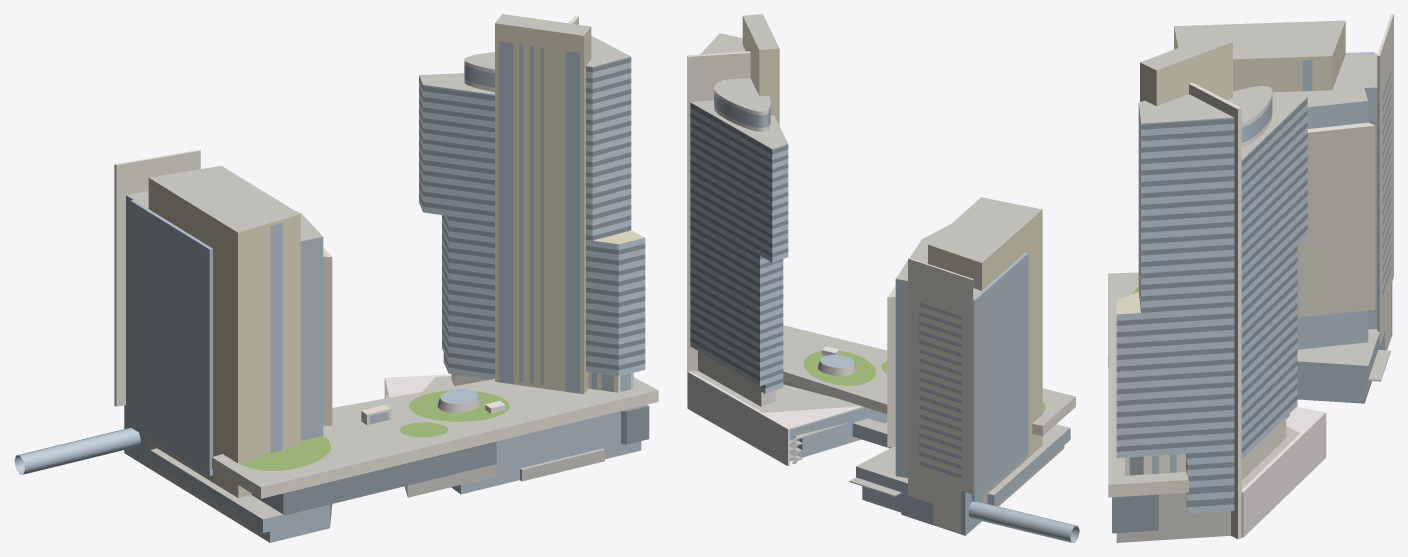
The picture shows the model from 3 angles, left to right: view 1: azimuth 30°, elevation 25°; view 2: azimuth 150°, elevation 25°; view 3: azimuth 270°, elevation 25°; orthographic projection. The views are drawn at different scales.
Parts seen in each view (by area): view 1: 70030076431356650lod; view 2: 70030076431356650lod; view 3: 70030076431356650lod.
Part boxes in pixels (box(x1,y1,x2,y2)): 70030076431356650lod: box(14, 14, 658, 542); 70030076431356650lod: box(687, 14, 1079, 542); 70030076431356650lod: box(1108, 14, 1393, 542).
Size of the model in its own units: 155 by 119 by 67.9.
Materials: 1 (1 with a texture image).
